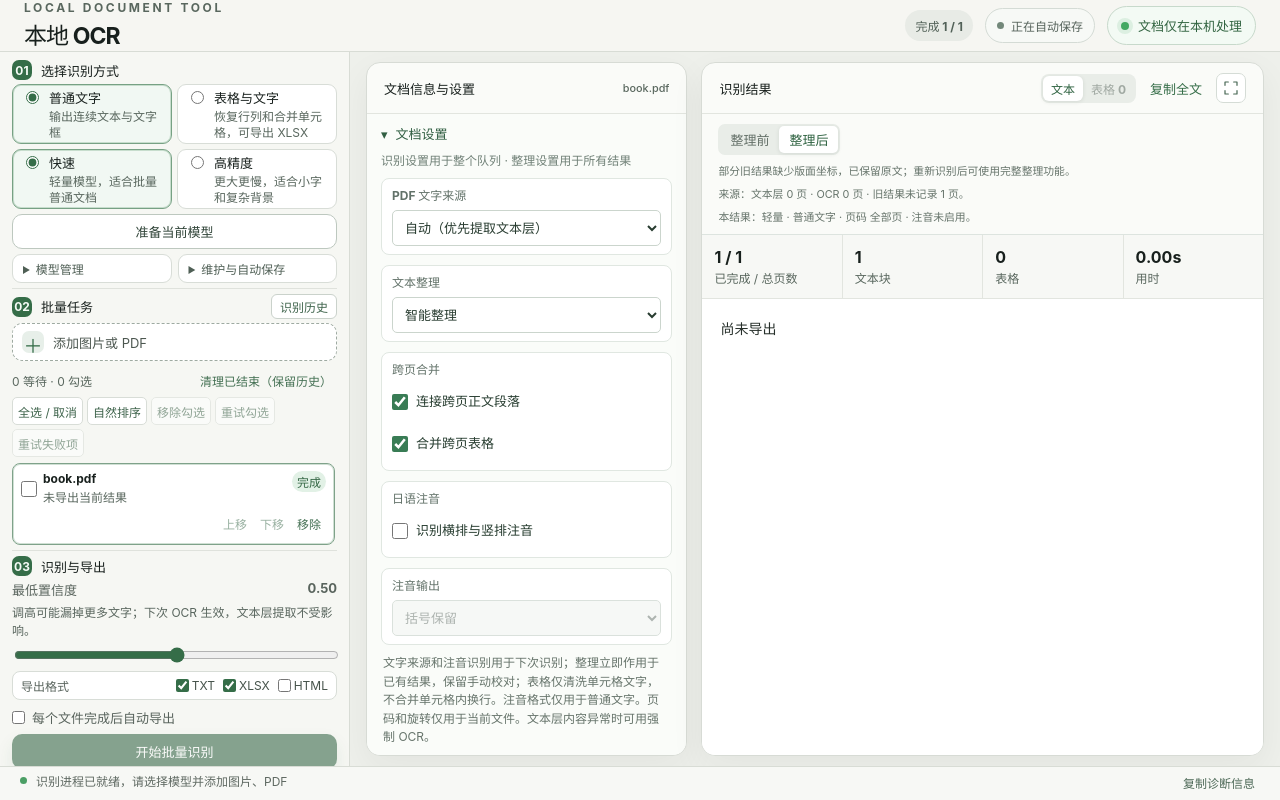
result retention and automatic exports › does not clear queue if saving the results fails
Click the button "清理已结束（保留历史）": x=266, y=381 [195,370,337,391]
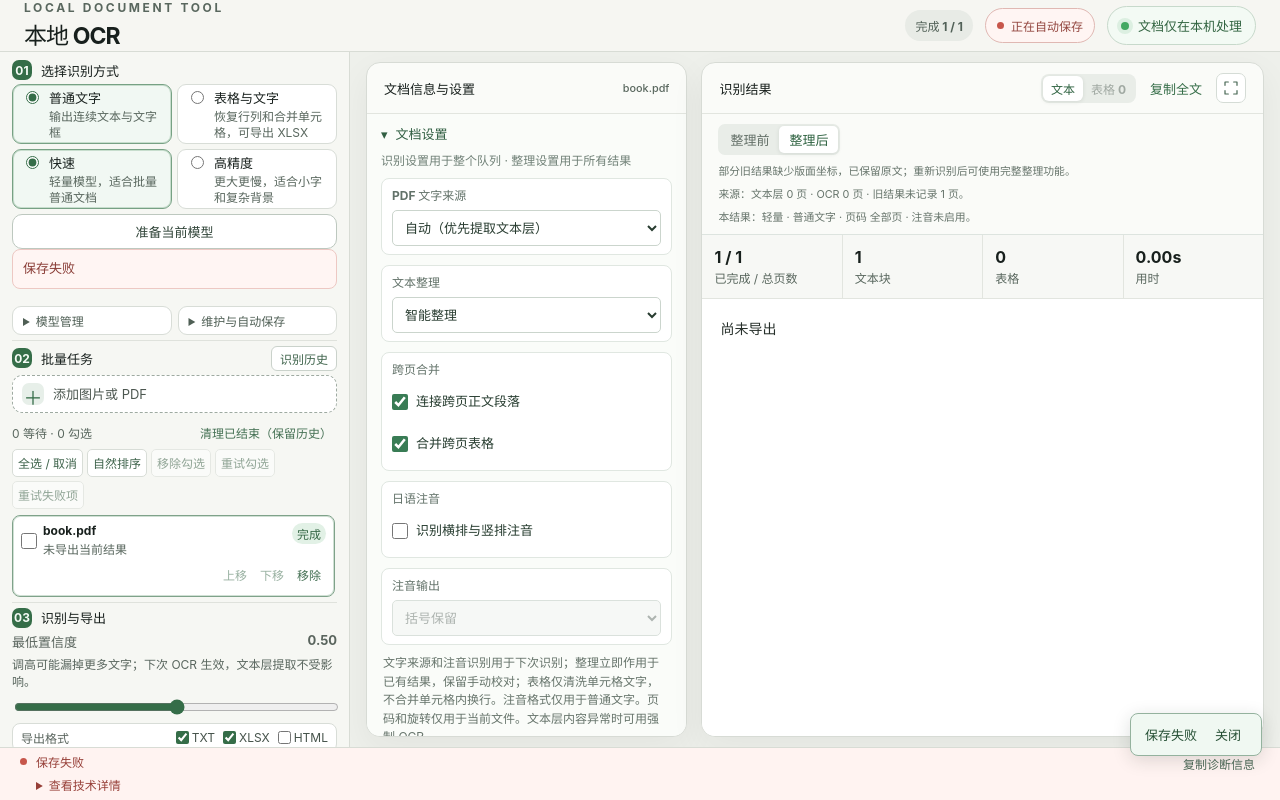
Expected: the number of elements with class "task-item" is 1, [12,515,335,597]
Expected: the text "保存失败" is shown, [12,249,337,289]
